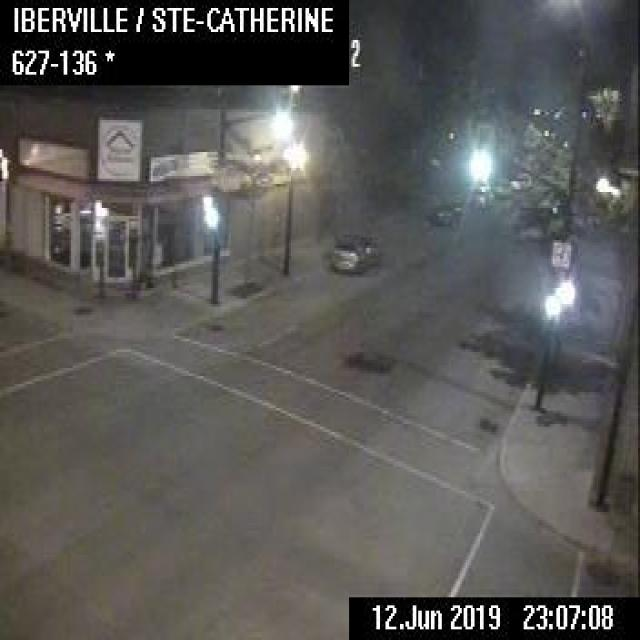vehicle: (329, 232, 380, 275), (427, 195, 460, 229), (467, 181, 495, 211), (504, 168, 529, 192)
